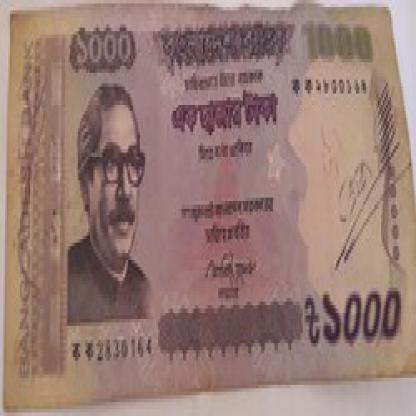One Thousand taka: (303, 288, 403, 346), (298, 18, 376, 70), (70, 28, 136, 73)
